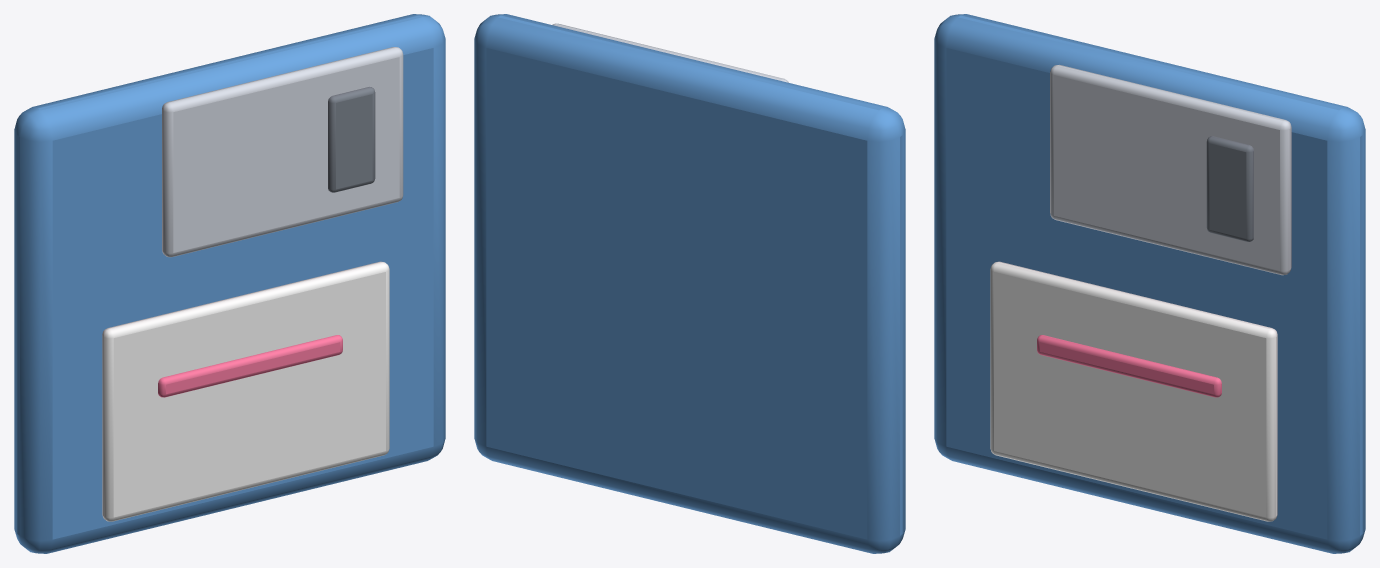
The model's file is disk.glb.
The picture shows the model from 3 angles, left to right: view 1: azimuth 30°, elevation 25°; view 2: azimuth 150°, elevation 25°; view 3: azimuth 330°, elevation 25°; orthographic projection.
Parts seen in each view (by area): view 1: shell, label, shutter, slot, line; view 2: shell, shutter; view 3: shell, label, shutter, slot, line.
Part boxes in pixels (x1,y1,x2,y2): shell: (14,14,445,553); label: (102,261,389,521); shutter: (162,47,403,257); slot: (328,86,375,192); line: (158,335,342,397); shell: (474,14,905,553); shutter: (552,23,788,82); shell: (934,14,1365,553); label: (990,261,1277,521); shutter: (1050,64,1291,275); slot: (1206,136,1253,241); line: (1037,335,1221,397).
Bounding box in the file's own units: 0.92 × 0.92 × 0.1375.
